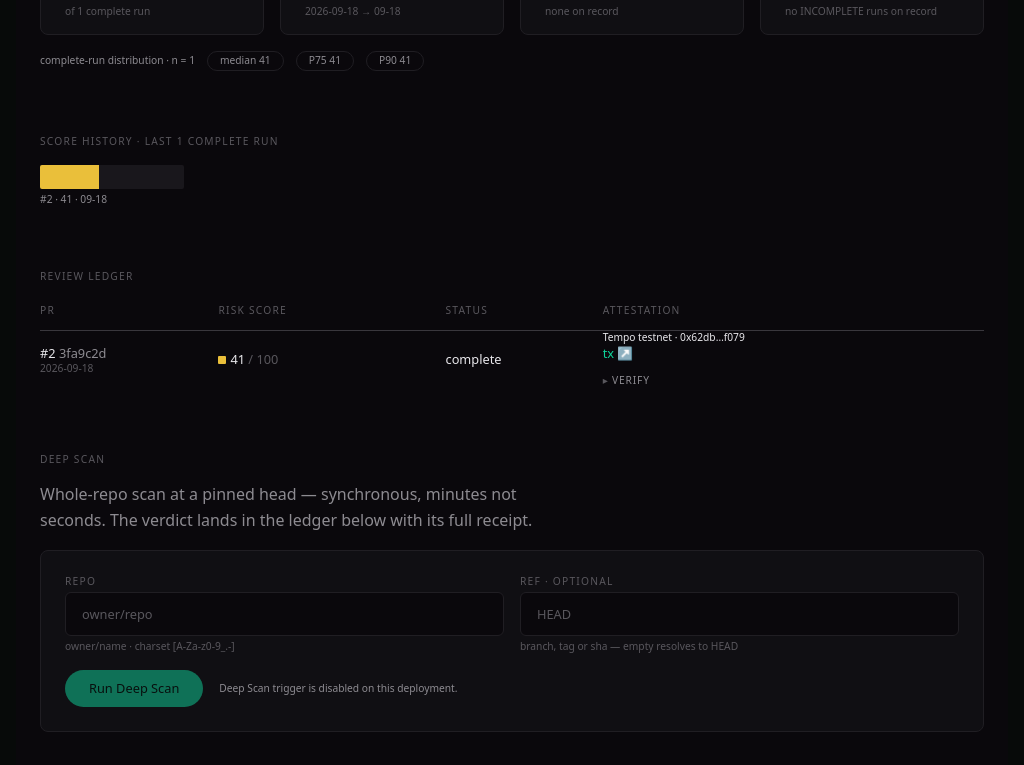
dashboard page — ledger › expands the verify recipe with REAL row values — never fabricated ones
(page scrolled)
# Base UI panel is closed by default: open it like a reader would.
What coordinates should you click on to do the following:
click the button "Verify"
I would click on:
 (626, 381)
Its box is [603,374,650,388].
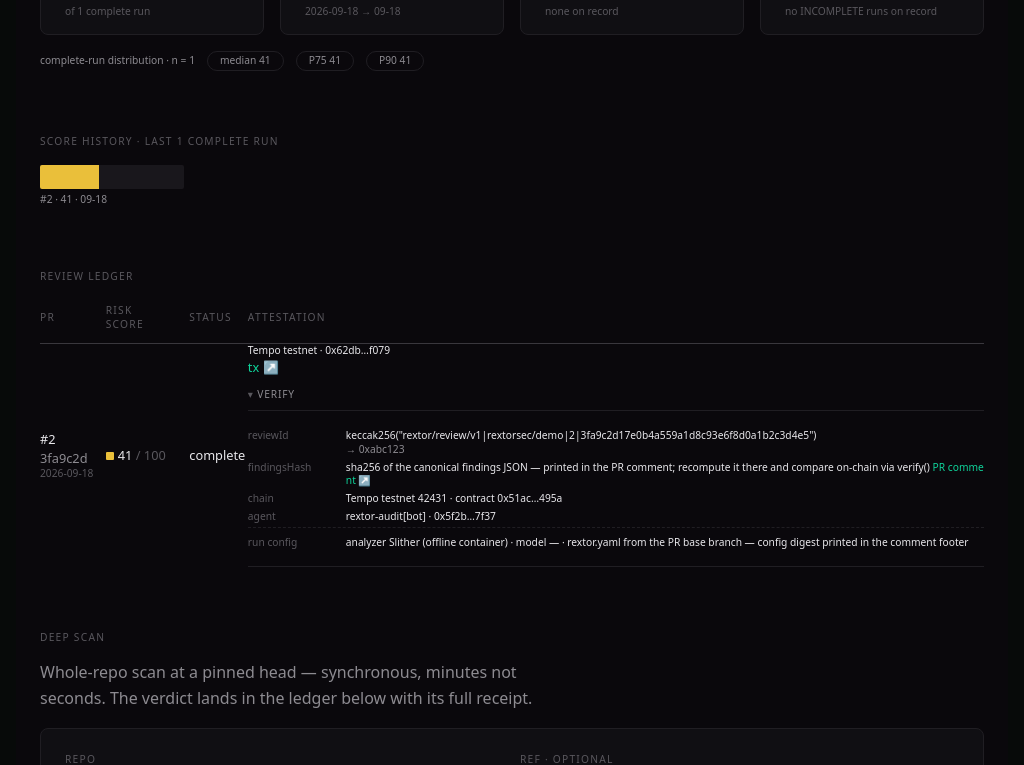
Expected: the text "keccak256(\"rextor/review/v1|rextorsec/demo|2|3fa9c2d17e0b4a559a1d8c93e6f8d0a1b2c3d4e5\")" is shown, [346,428,816,456]
Expected: the text "compare on-chain via verify()" is shown, [346,460,930,474]
Expected: the text "Tempo testnet 42431 · contract 0x51ac…495a" is shown, [346,491,562,505]
